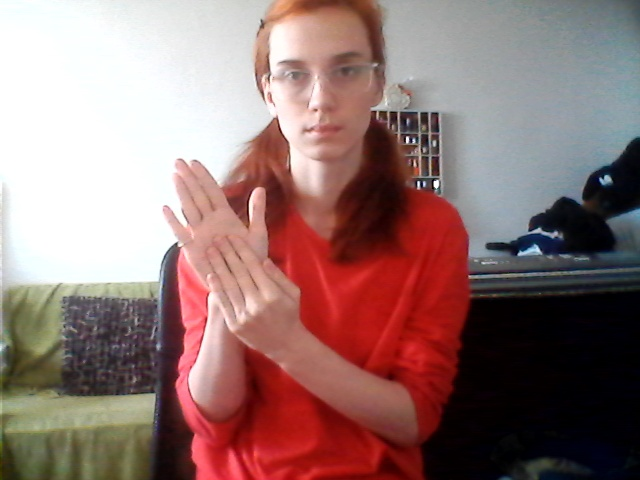m: (152, 155, 312, 359)
